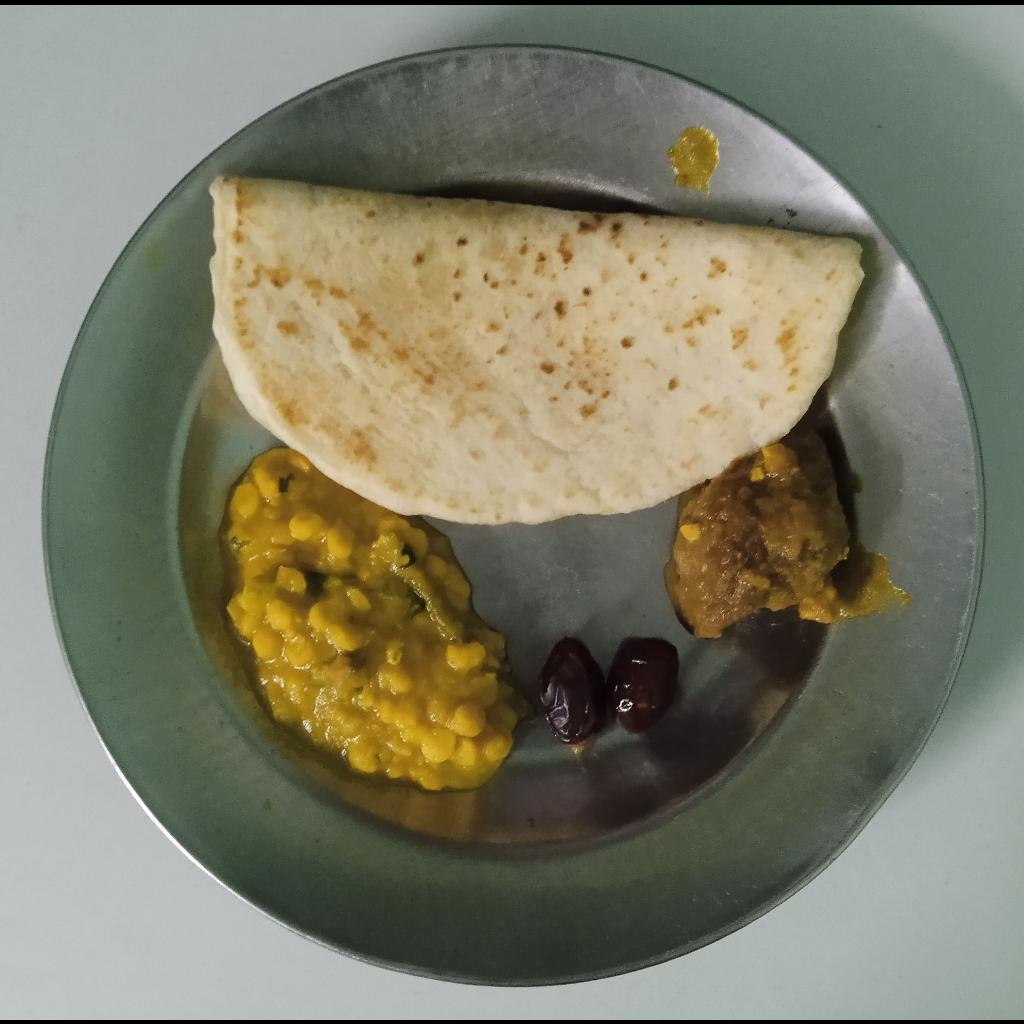beef: (663, 425, 866, 639)
daal: (228, 446, 530, 788)
dates: (537, 635, 679, 755)
ruti: (208, 174, 865, 523)
